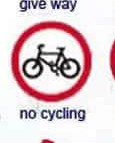Traffic signal: (8, 20, 93, 104)
